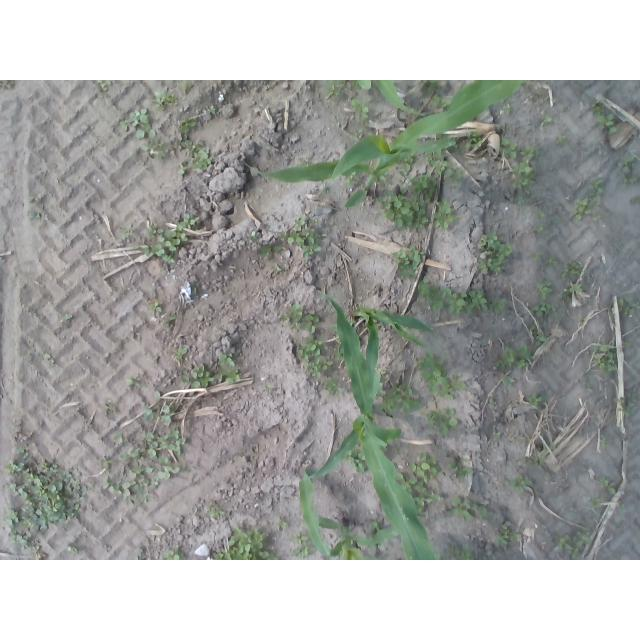Maize: (245, 80, 523, 208), (306, 289, 435, 560), (301, 472, 400, 561), (350, 309, 435, 391), (358, 80, 426, 116)
Weeds: (103, 390, 188, 506), (5, 446, 95, 548), (133, 214, 199, 263), (417, 281, 487, 316), (418, 352, 467, 401), (214, 524, 278, 561), (376, 189, 429, 231), (281, 215, 322, 262), (474, 231, 512, 274), (377, 386, 420, 415), (278, 304, 319, 334), (119, 109, 158, 140), (422, 406, 459, 434), (552, 532, 589, 560), (393, 246, 424, 279), (406, 453, 440, 481), (451, 495, 487, 521), (182, 363, 214, 387), (496, 346, 530, 368), (594, 343, 618, 373), (435, 198, 457, 230), (511, 162, 535, 189), (411, 174, 437, 198), (190, 144, 213, 171), (426, 153, 451, 177), (298, 336, 322, 361), (495, 525, 521, 548), (574, 198, 599, 221), (140, 141, 168, 160), (445, 458, 471, 478), (415, 481, 441, 500), (618, 296, 640, 317), (153, 90, 176, 110), (321, 377, 343, 397), (560, 261, 583, 280), (508, 474, 533, 491), (325, 81, 347, 100), (351, 99, 370, 120), (347, 451, 365, 473), (500, 136, 517, 159), (598, 114, 618, 133), (214, 369, 240, 383), (399, 472, 417, 492), (613, 397, 631, 416), (450, 546, 474, 560), (533, 301, 555, 316), (419, 80, 439, 96), (293, 545, 315, 559), (465, 131, 482, 149), (600, 477, 616, 496), (207, 502, 226, 518), (178, 117, 196, 133), (447, 169, 466, 184), (618, 156, 635, 172), (257, 246, 283, 256), (589, 179, 604, 196), (539, 282, 554, 299), (52, 314, 73, 326), (179, 134, 194, 150), (488, 300, 504, 315), (317, 355, 333, 370), (171, 346, 186, 362), (432, 96, 450, 109), (522, 457, 543, 468), (305, 362, 320, 377), (403, 156, 417, 172), (127, 377, 142, 391), (147, 303, 161, 318), (218, 354, 234, 367), (121, 224, 134, 240), (161, 551, 183, 560), (143, 225, 157, 239), (290, 532, 306, 544), (413, 497, 432, 507), (566, 282, 583, 293), (521, 147, 536, 159), (29, 196, 43, 208), (534, 332, 546, 345), (528, 394, 541, 406), (276, 518, 288, 531), (180, 81, 192, 93), (592, 102, 604, 114), (501, 373, 513, 384), (96, 80, 109, 90), (349, 80, 362, 90), (588, 499, 601, 509), (27, 212, 42, 220), (540, 114, 550, 126), (346, 172, 356, 184), (555, 136, 566, 146), (530, 254, 542, 263), (44, 353, 54, 363), (545, 259, 558, 266), (624, 177, 636, 184), (251, 232, 258, 243), (208, 106, 216, 115), (536, 210, 545, 218), (600, 437, 607, 447), (180, 166, 187, 175), (592, 213, 600, 220), (67, 547, 78, 552), (536, 226, 545, 232), (373, 522, 379, 531), (379, 369, 386, 376), (493, 433, 500, 440), (517, 196, 523, 204), (265, 385, 271, 393), (504, 107, 510, 114), (550, 444, 557, 450), (620, 507, 626, 514), (529, 325, 536, 330), (623, 342, 630, 347), (314, 218, 319, 223), (489, 397, 493, 403), (581, 318, 588, 321), (525, 191, 531, 194)
